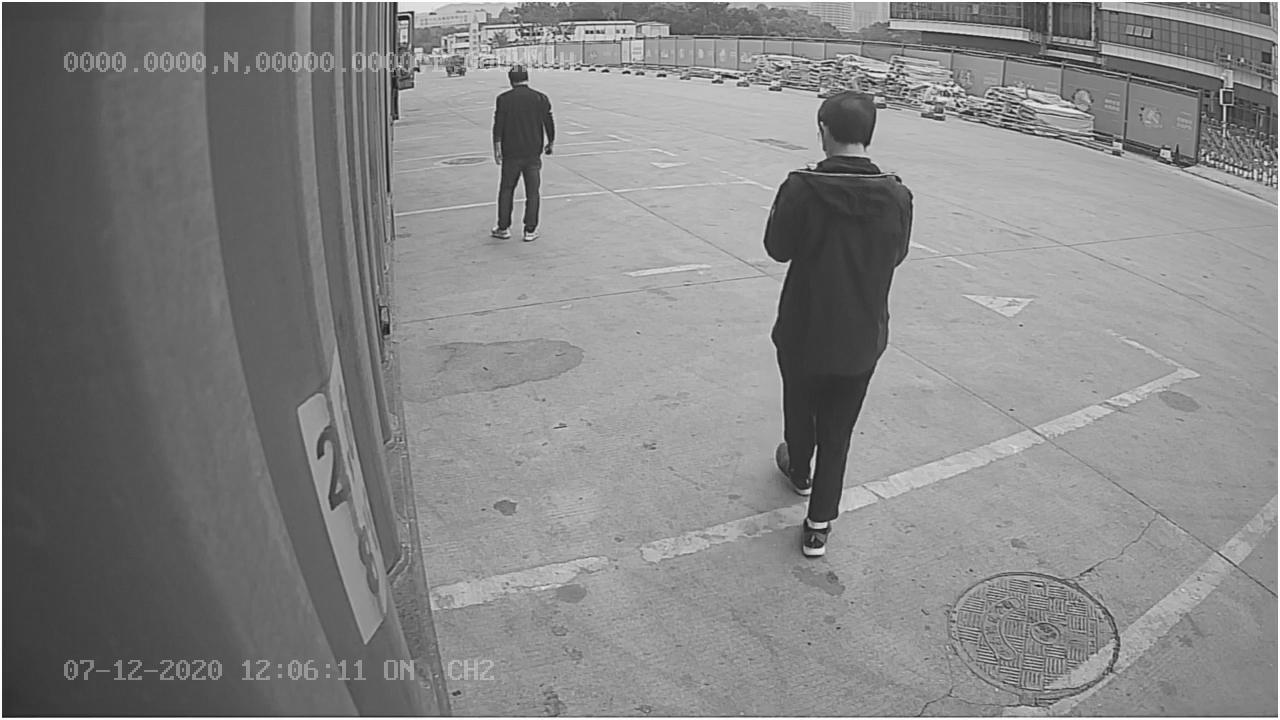person: (750, 84, 917, 557)
